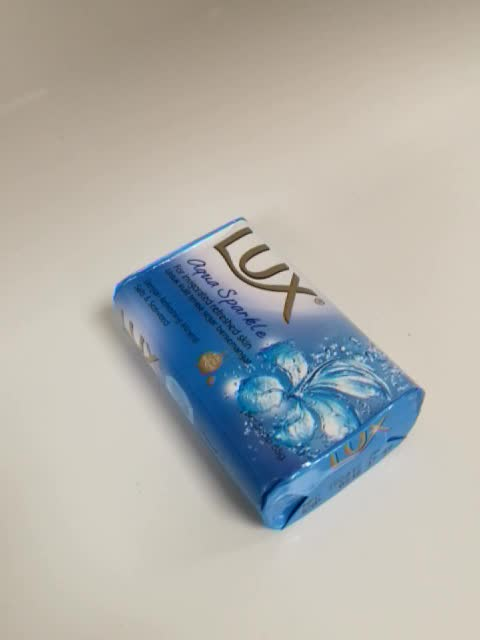soap: (110, 213, 427, 533)
